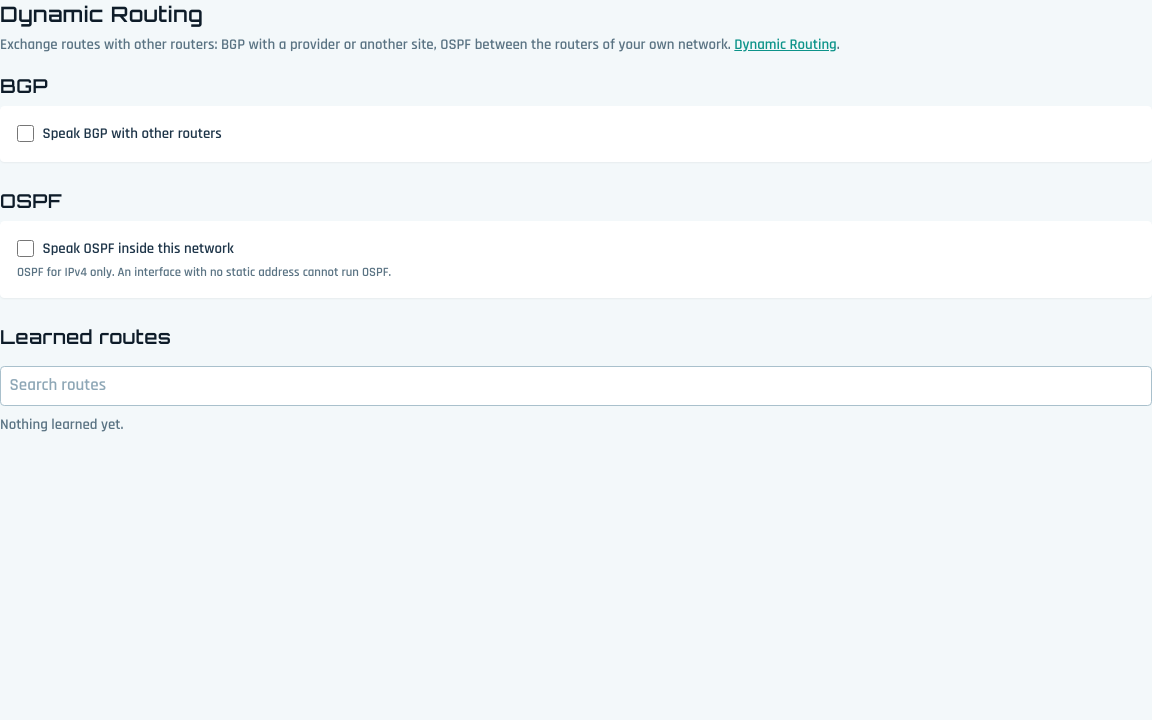
Test: Routing page › refuses to save a bad AS and shows the message under the field
Click the checkbox labelled "Speak BGP with other routers" at (26, 134), box [17, 125, 34, 142]
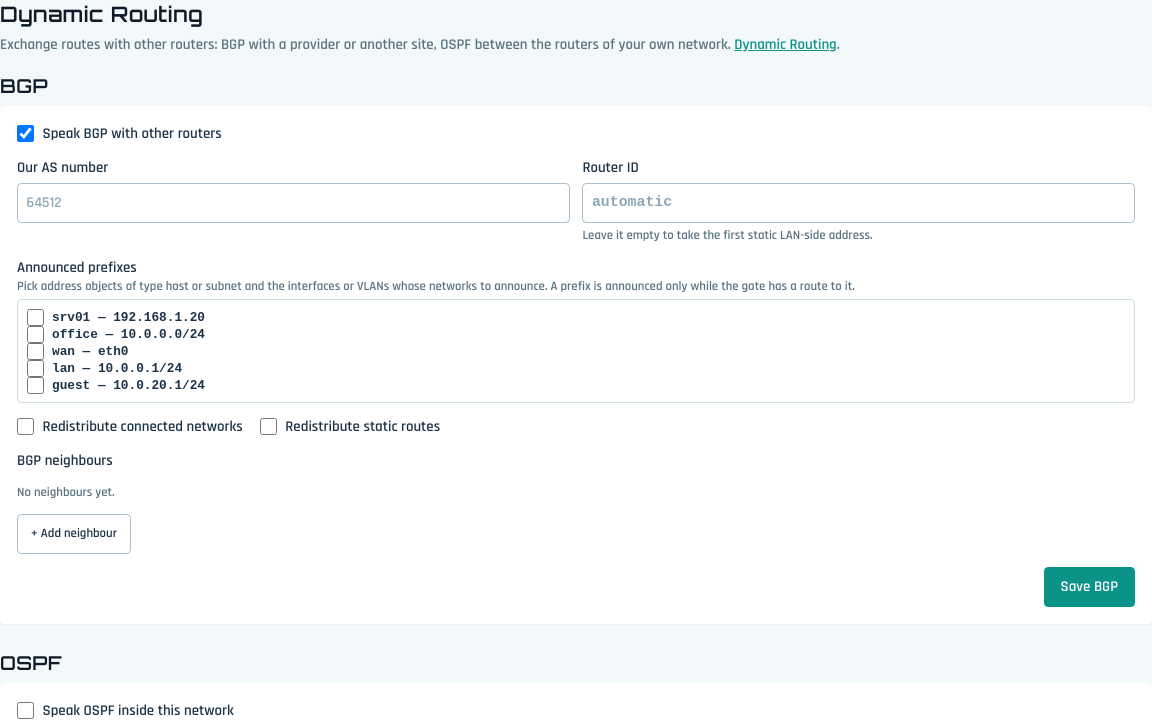
Type "0" into the field labelled "Our AS number" at (293, 203), box [17, 183, 570, 223]
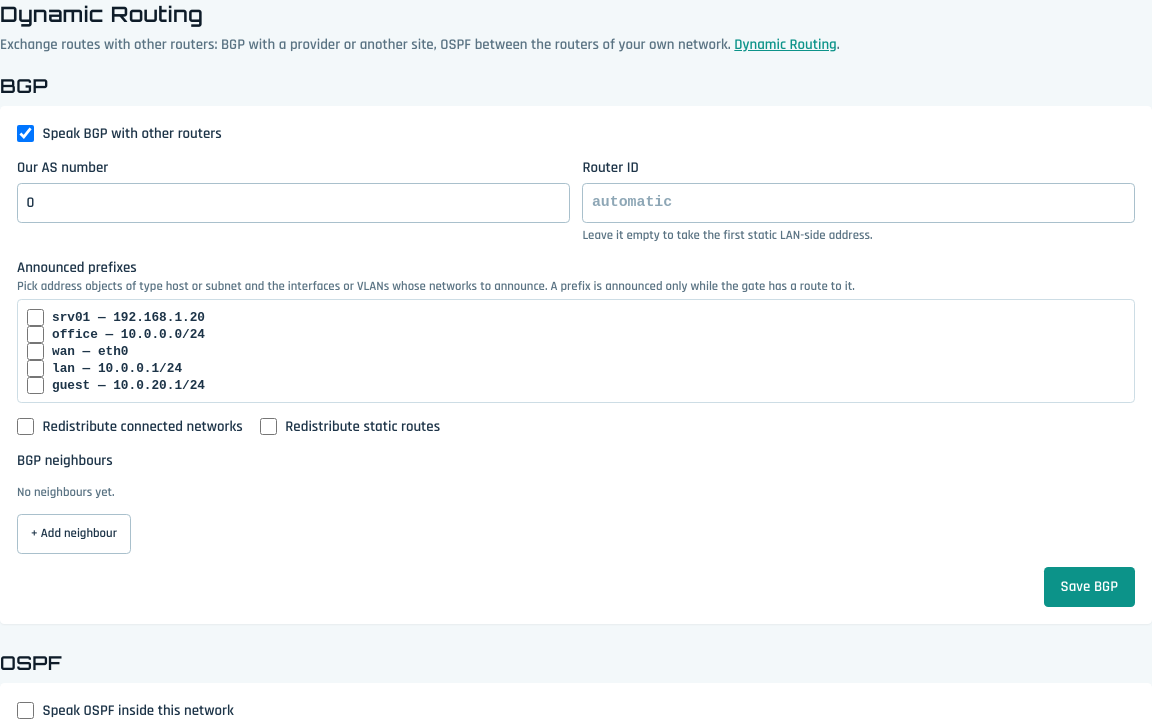
Click the button "Save BGP" at (1089, 586), box [1044, 566, 1135, 606]
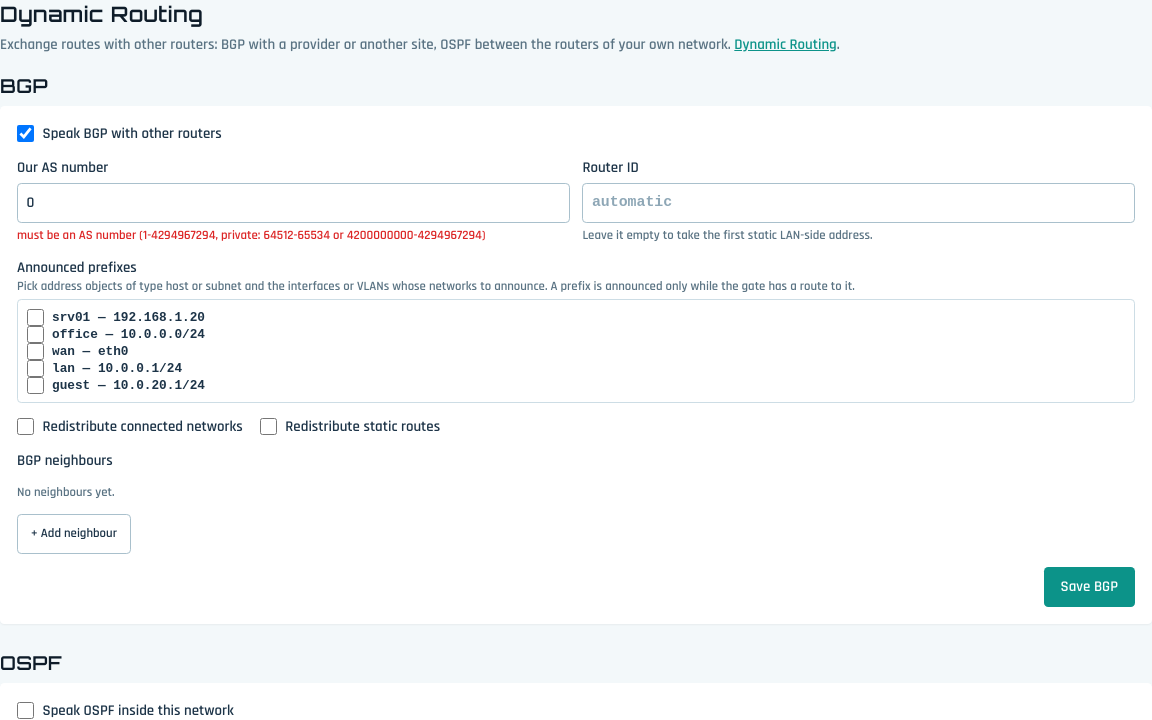
Result: the message shows "must be an AS number" at [17, 227, 486, 243]
